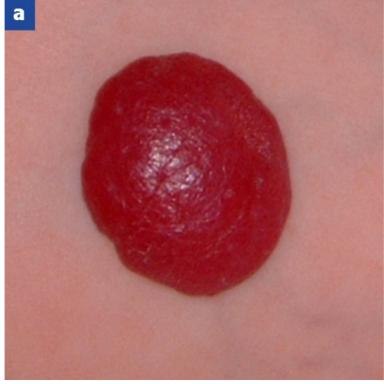Hemangiome: (83, 53, 291, 294)
